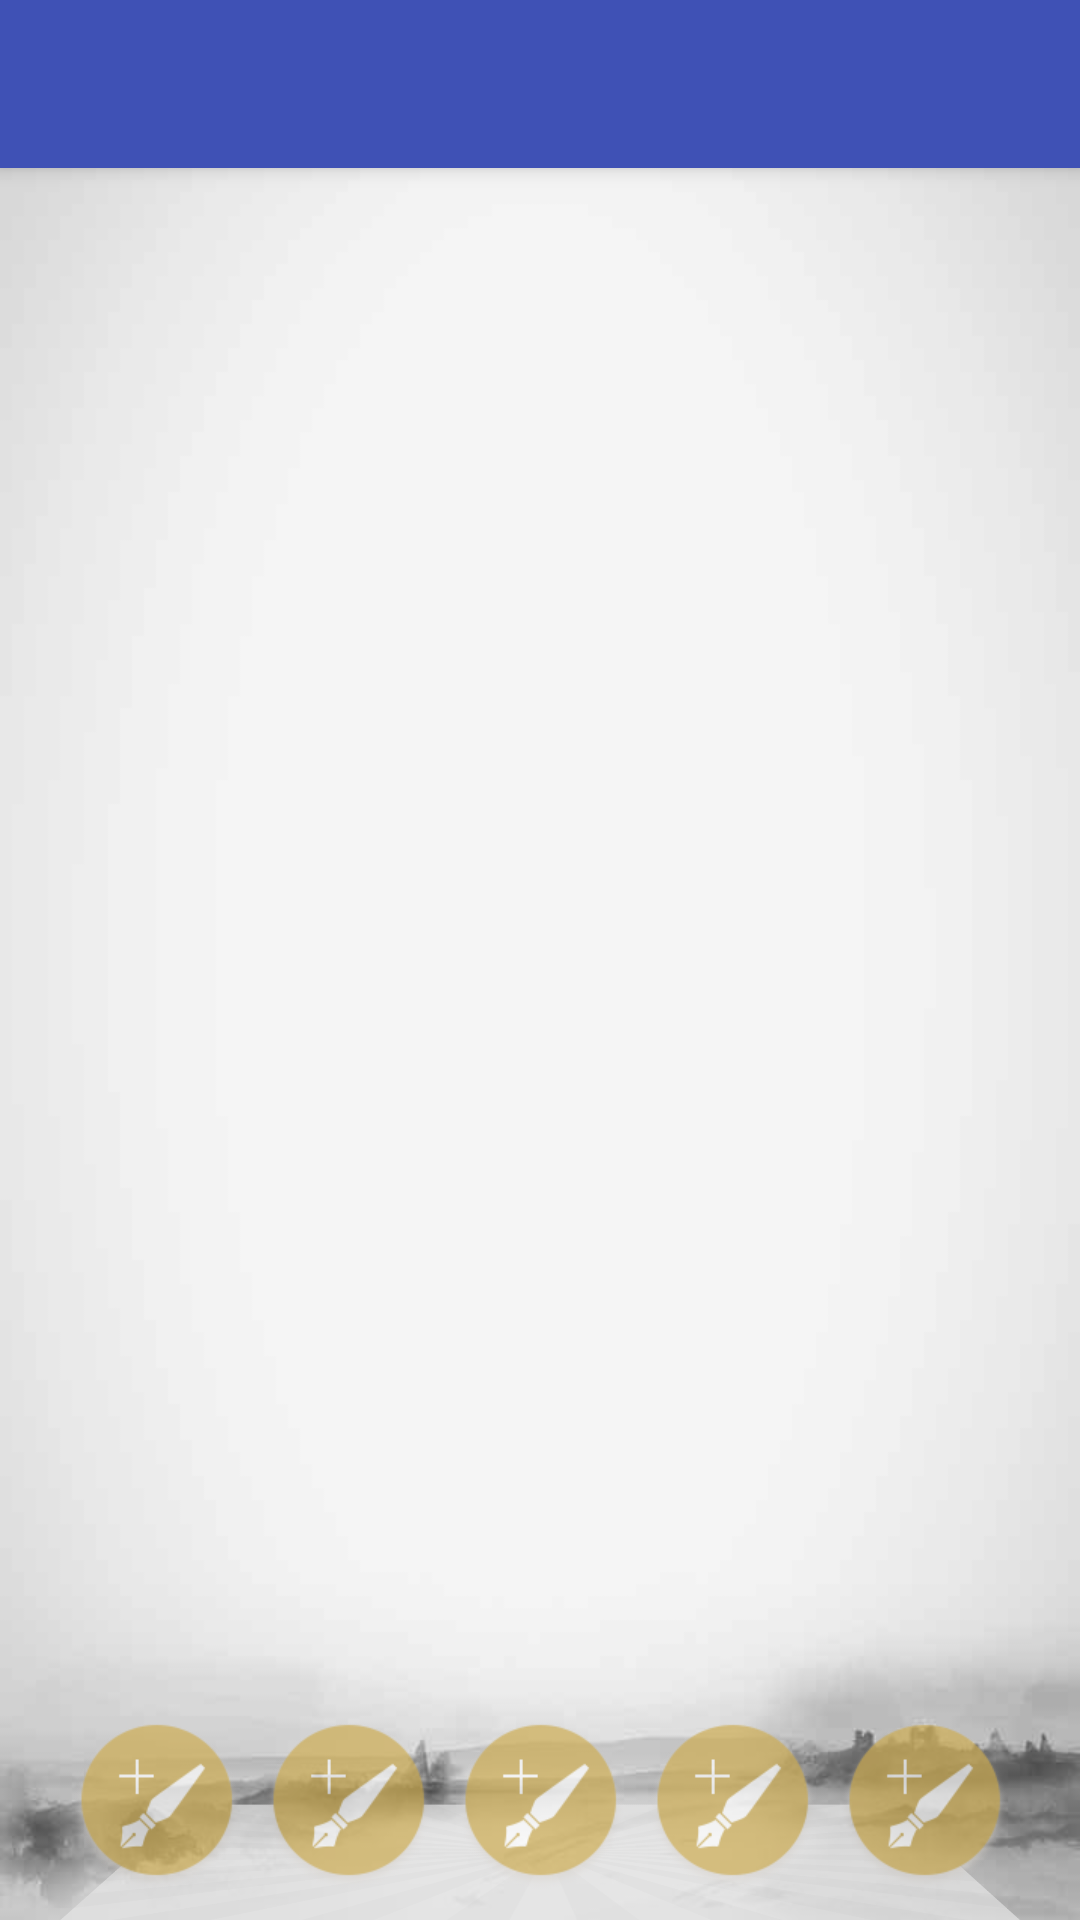

Icons on this 1080px×1920px Android screen, each with the point to tap as (x=x, y=y):
poetry item create: (x=732, y=1793), (x=924, y=1800), (x=348, y=1800), (x=156, y=1807), (x=540, y=1800)
